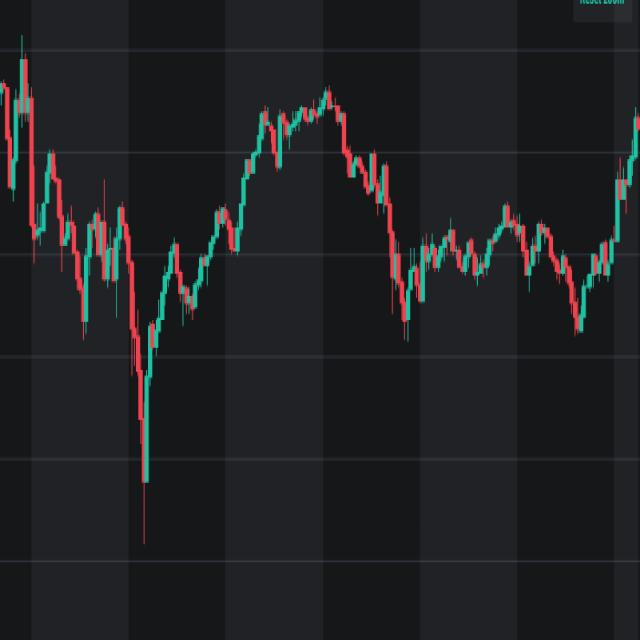Resistance-breakout: (399, 105, 640, 332)
